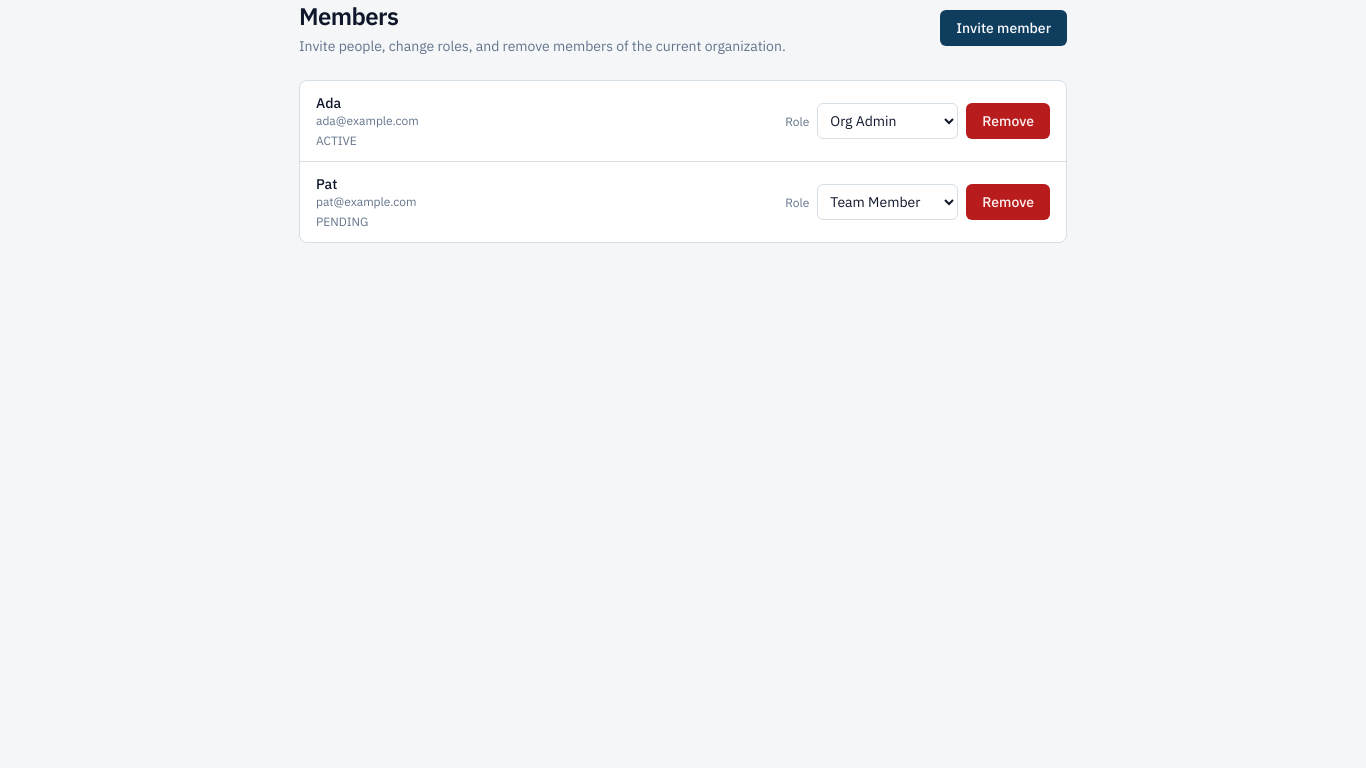
Test: Members settings › shows last-admin API messages on role update and remove
Expected: the list item with test id "member-row-mem_admin" is shown, x1=300 y1=81 x2=1066 y2=162
Select "Team Member" in the dropdown named "Role for Ada" at (888, 121), box x1=817 y1=103 x2=958 y2=139
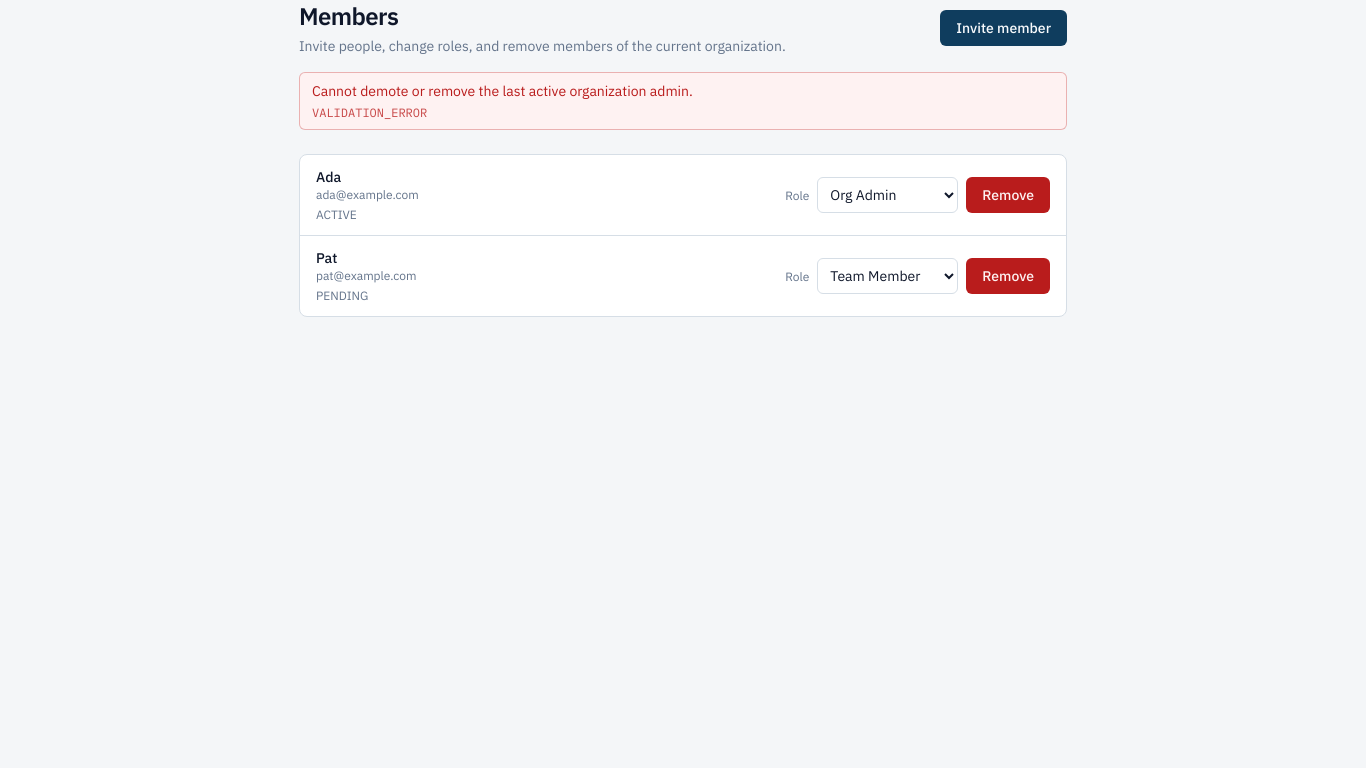
Expected: the message with test id "auth-form-error" shows "Cannot demote or remove the last active organization admin.", x1=312 y1=82 x2=693 y2=100
Click the button "Remove" in the row of "ada@example.com" at (1008, 195), box x1=966 y1=177 x2=1050 y2=213
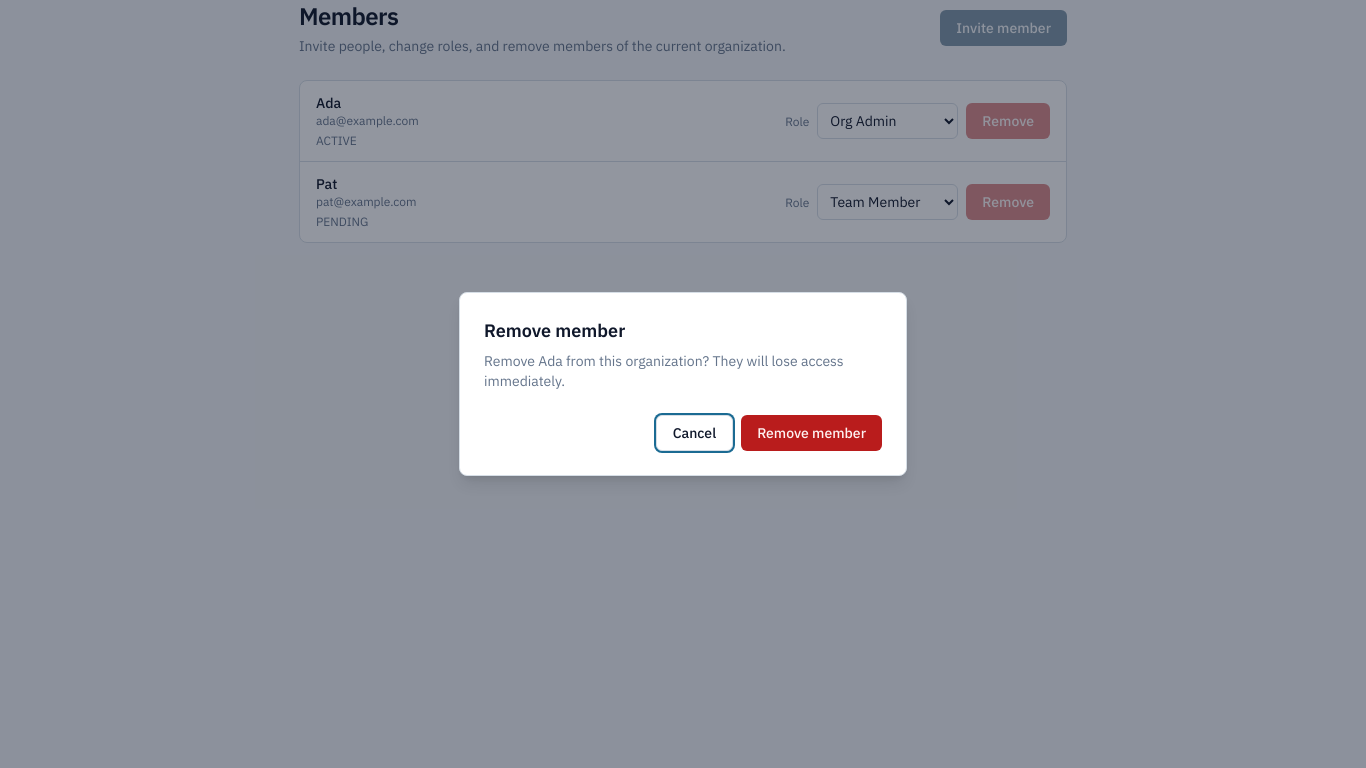
Click the button "Remove member" at (812, 433), box x1=741 y1=415 x2=882 y2=451
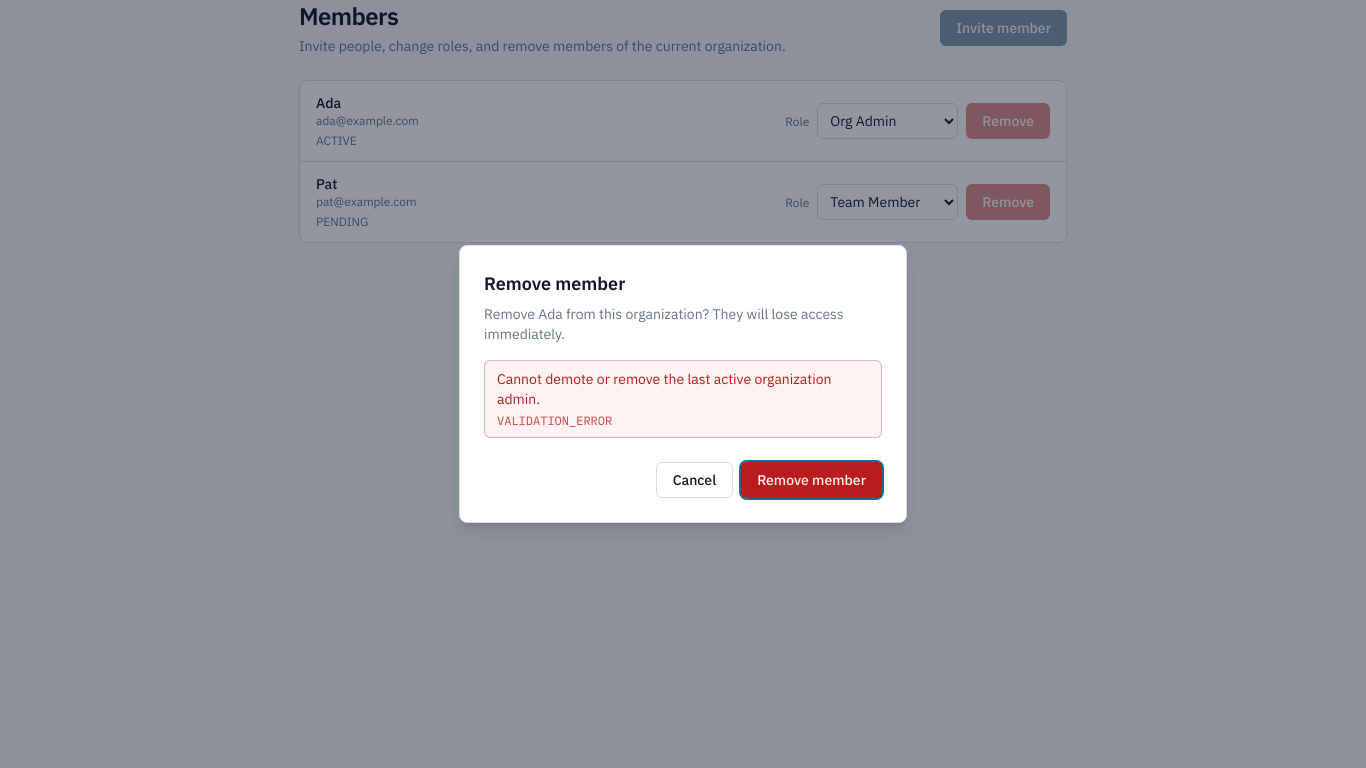
Expected: the message with test id "auth-form-error" shows "Cannot demote or remove the last active organization admin.", x1=497 y1=370 x2=832 y2=408
